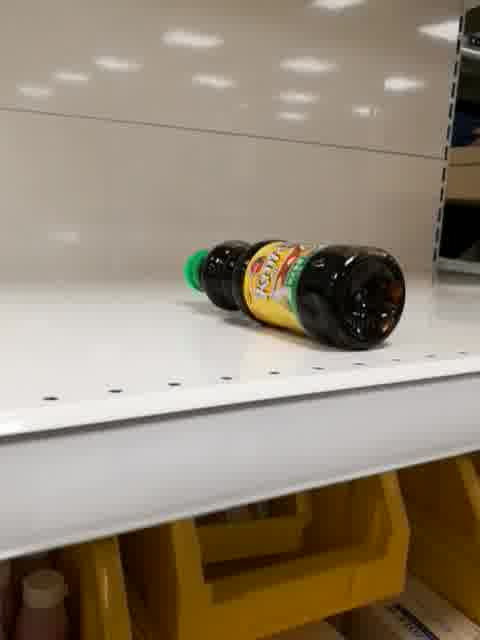cookingoil: (183, 233, 408, 355)
